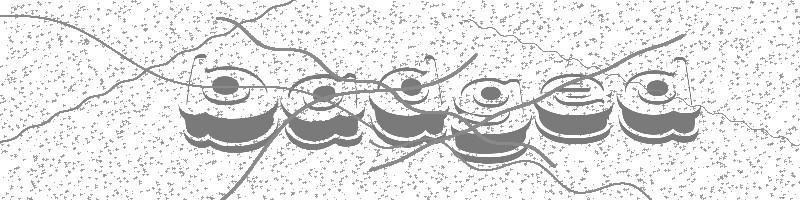a: (277, 70, 367, 153)
b: (178, 53, 279, 151)
d: (616, 55, 709, 152), (368, 52, 454, 149)
e: (533, 66, 616, 149)
g: (451, 72, 534, 166)
